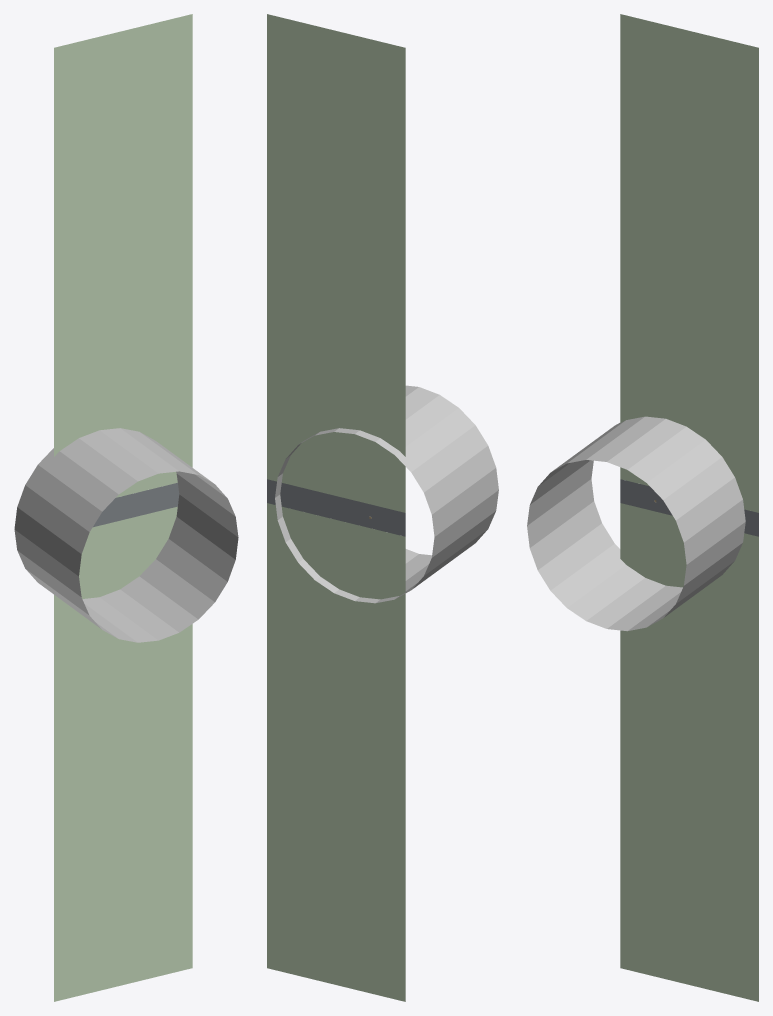
The model's file is DDEV_pothole_scene.obj.
3 views of the same model, side by side, from view 1: azimuth 30°, elevation 25°; view 2: azimuth 150°, elevation 25°; view 3: azimuth 330°, elevation 25° (orthographic).
Size of the model in its own units: 75.8 by 400 by 49.
